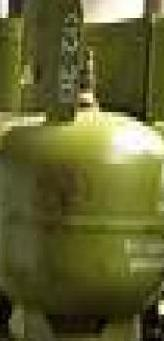cylinder: (1, 1, 164, 341)
